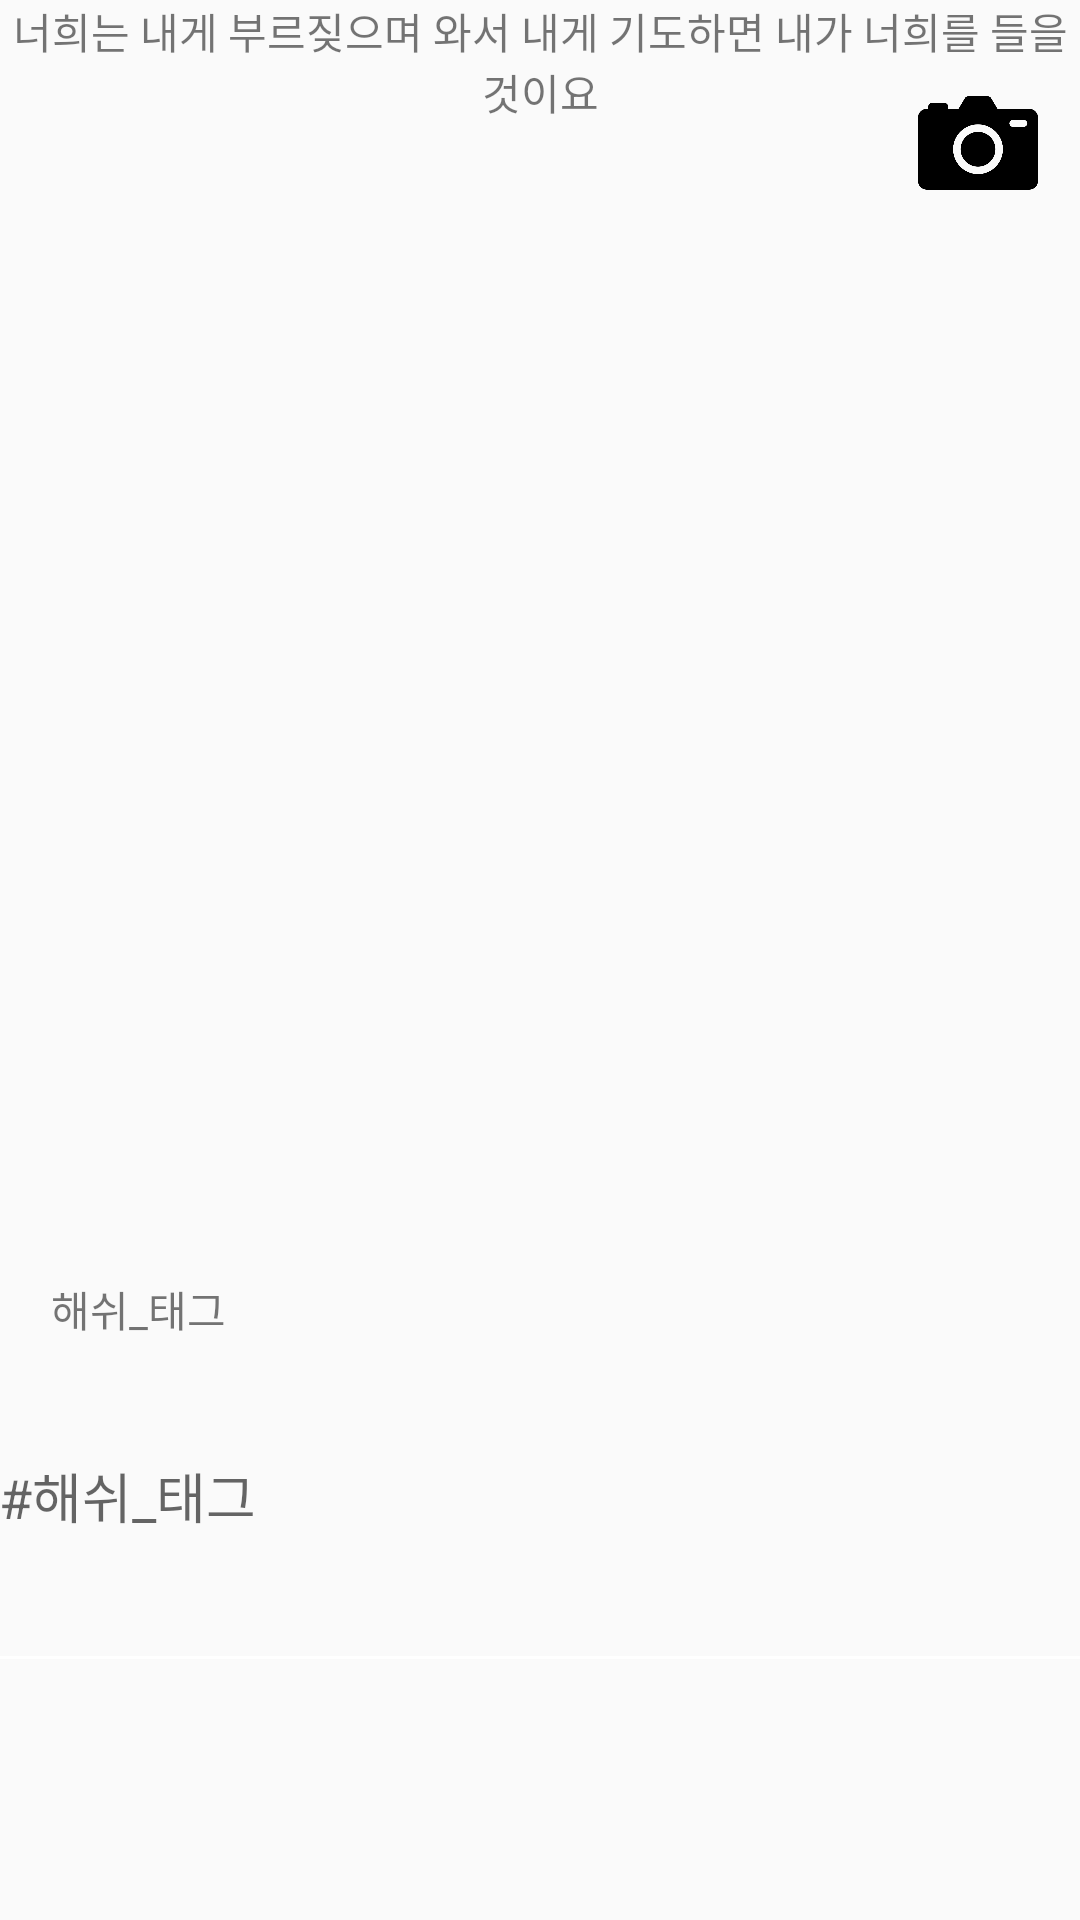

Icons on this 1080px×1920px Android screen, each with its box as BBox(x1, y1, x2, y2):
camera: BBox(918, 96, 1038, 190)
